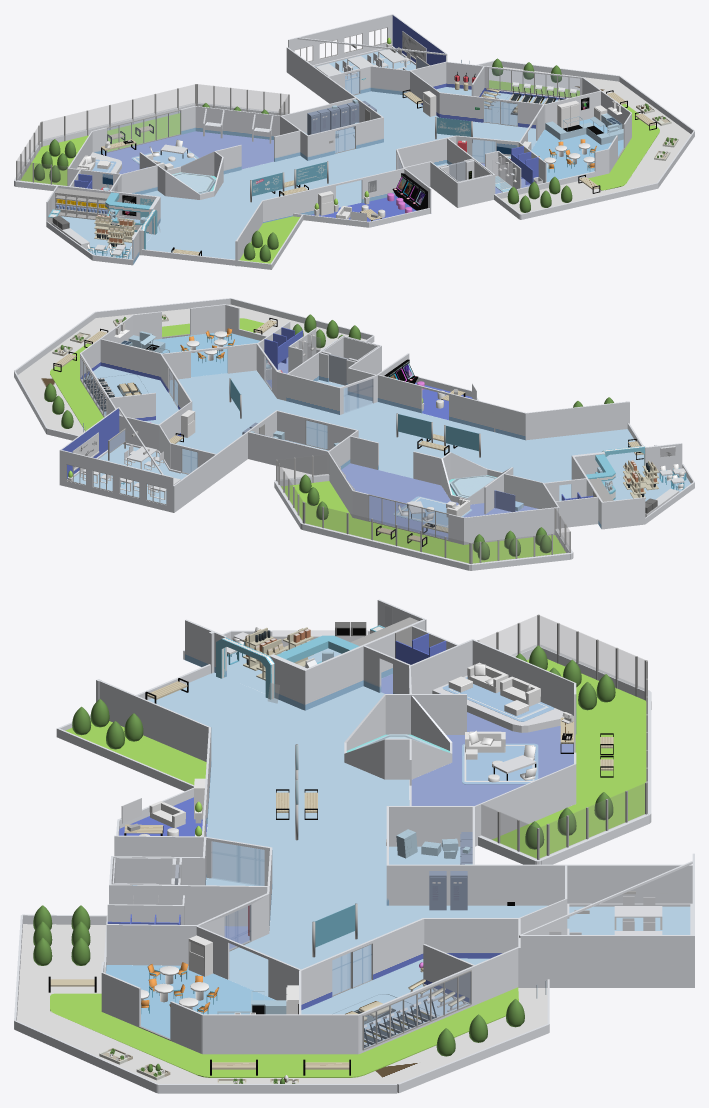
File: schale-office.glb
The picture shows the model from 3 angles, top to bottom: view 1: azimuth 30°, elevation 25°; view 2: azimuth 150°, elevation 25°; view 3: azimuth 270°, elevation 25°; orthographic projection. The views are drawn at different scales.
Visible parts, largest first — view 1: model_4, model_24, model_3, model_53, model_89, model_60, model_50, model_15, model_87, model_42, model_61, model_40 (+27 smaller); view 2: model_4, model_24, model_3, model_89, model_53, model_15, model_42, model_60, model_50, model_87, model_61, model_40 (+19 smaller); view 3: model_4, model_24, model_3, model_53, model_15, model_60, model_61, model_89, model_50, model_40, model_42, model_59 (+22 smaller).
Part boxes in pixels (x1,y1,x2,y2): model_4: (14,14,694,269); model_24: (61,49,557,264); model_3: (58,66,495,264); model_53: (392,14,601,129); model_89: (17,84,288,185); model_60: (489,67,690,213); model_50: (34,58,676,261); model_15: (20,37,391,263); model_87: (107,68,579,151); model_42: (103,131,273,173); model_61: (489,80,659,190); model_40: (157,151,223,199); model_4: (14,298,694,570); model_24: (73,370,690,526); model_3: (159,335,682,544); model_89: (277,454,569,563); model_53: (60,338,192,479); model_15: (68,398,565,563); model_42: (341,463,538,539); model_60: (18,304,366,435); model_50: (44,314,613,560); model_87: (80,358,447,539); model_61: (50,318,263,431); model_40: (441,452,513,504); model_4: (14,599,694,1093); model_24: (148,643,690,1045); model_3: (109,619,576,934); model_53: (299,918,692,1054); model_15: (65,659,646,858); model_60: (17,924,547,1083); model_61: (50,987,518,1077); model_89: (479,615,647,858); model_50: (33,645,615,1083); model_40: (344,694,452,779); model_42: (411,693,573,805); model_59: (106,965,275,1038).
Bounding box in the file's own units: 56.18 × 3.05 × 35.6.
Materials: 61 (60 with a texture image).
